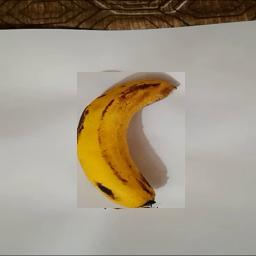Banana Semifresh: (77, 72, 185, 208)
